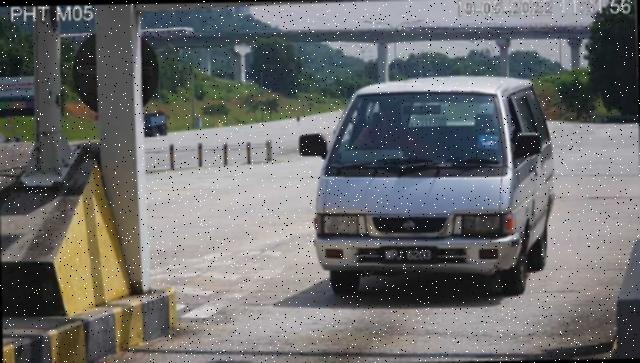License_Plate: (379, 244, 442, 268)
van: (312, 74, 556, 298)
